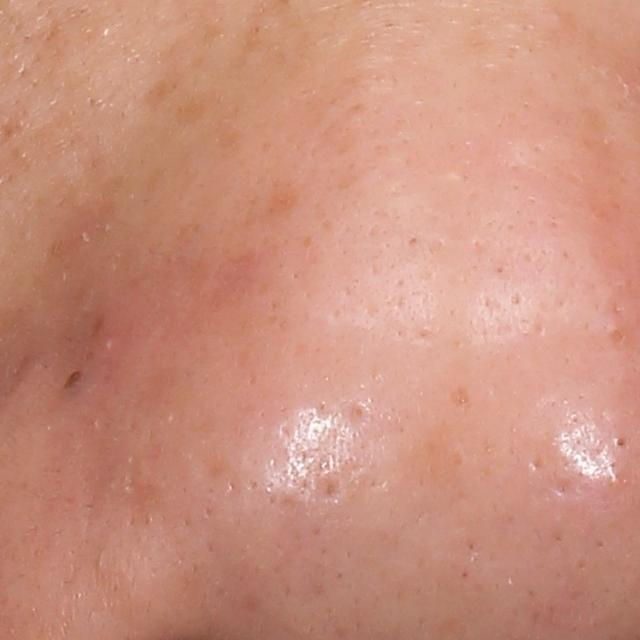comedo: (58, 365, 87, 395), (610, 434, 628, 449)
